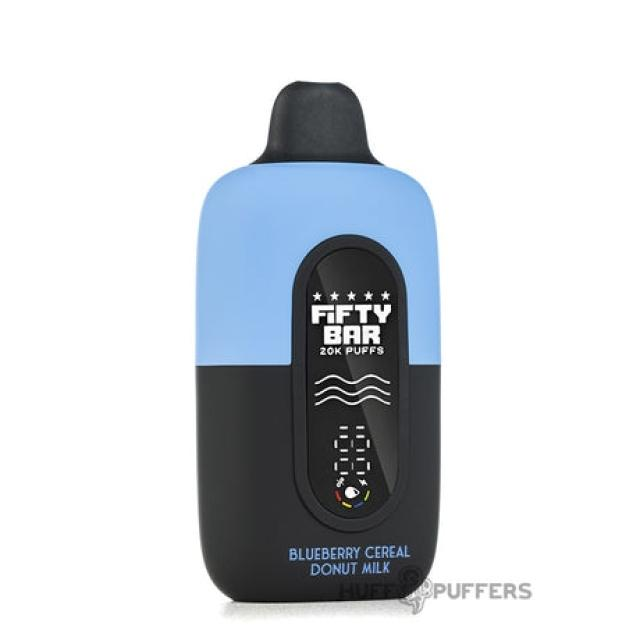Hazard: (194, 79, 442, 604)
